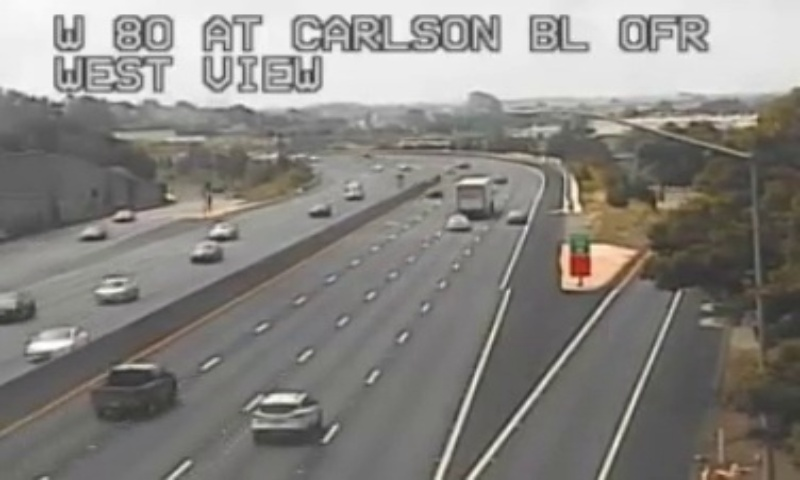car: (91, 364, 176, 413), (251, 391, 319, 434)
